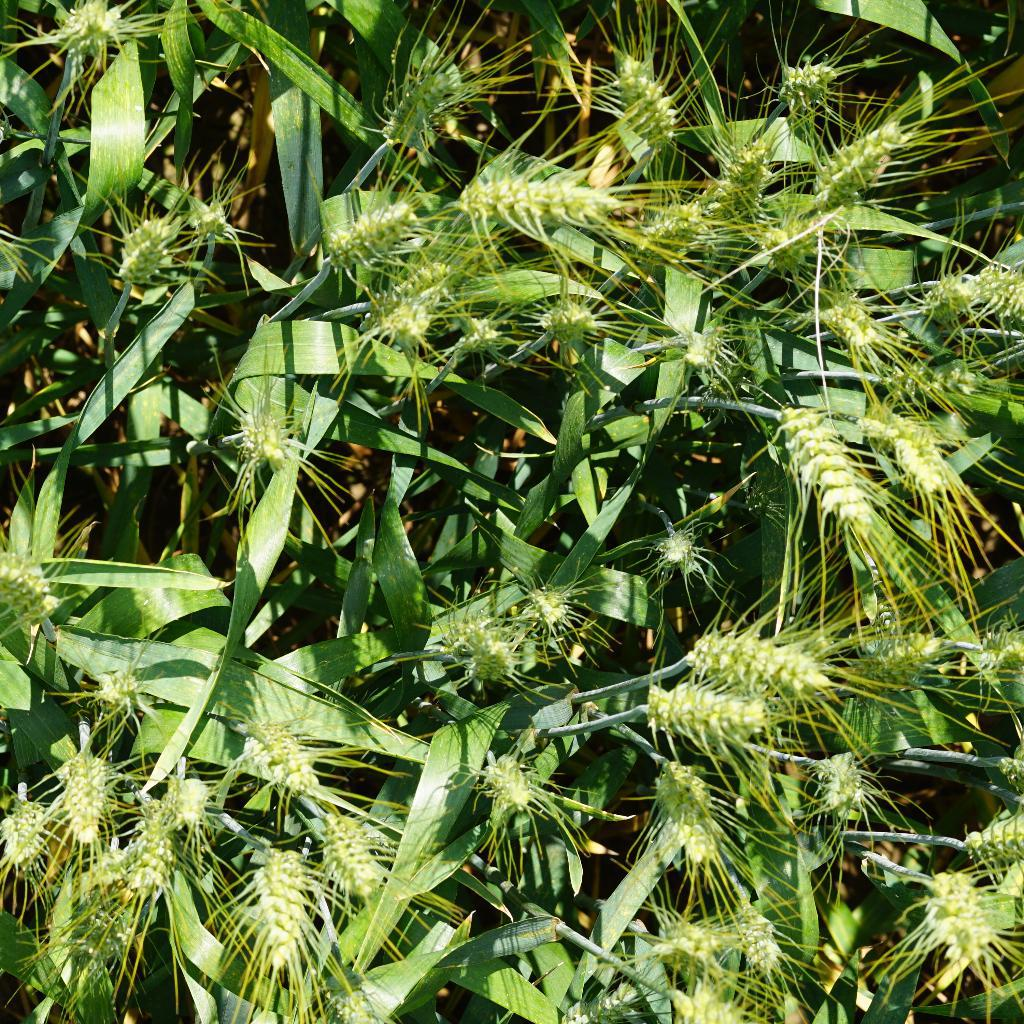0-0: (658, 609, 847, 703), (776, 393, 877, 531), (635, 673, 788, 758), (466, 164, 627, 243), (914, 858, 1012, 983), (602, 29, 687, 163), (869, 396, 965, 505), (374, 34, 460, 149), (242, 841, 314, 976), (811, 122, 920, 202), (653, 751, 731, 862), (852, 626, 959, 705), (692, 119, 780, 215), (238, 703, 322, 803), (57, 879, 147, 966), (310, 202, 438, 262), (929, 800, 1024, 870), (482, 750, 565, 828), (514, 288, 606, 357), (126, 792, 180, 904), (34, 0, 134, 59), (0, 538, 67, 626), (848, 565, 922, 644), (318, 814, 387, 896), (811, 743, 878, 823), (62, 747, 111, 856), (819, 286, 889, 361), (758, 209, 837, 272), (456, 605, 527, 675), (777, 48, 851, 114), (177, 191, 249, 257), (88, 657, 163, 720), (557, 974, 651, 1024), (920, 265, 989, 332), (366, 261, 447, 318), (660, 905, 722, 979), (733, 888, 788, 971), (114, 210, 174, 286), (666, 314, 735, 380), (881, 354, 982, 399), (695, 352, 757, 423), (645, 195, 721, 251), (961, 251, 1024, 318), (967, 627, 1024, 699), (235, 410, 302, 470), (447, 306, 514, 366), (647, 519, 716, 576), (2, 785, 48, 870), (529, 575, 590, 632), (387, 296, 452, 348), (167, 766, 216, 833), (731, 474, 787, 525), (336, 974, 393, 1024)
